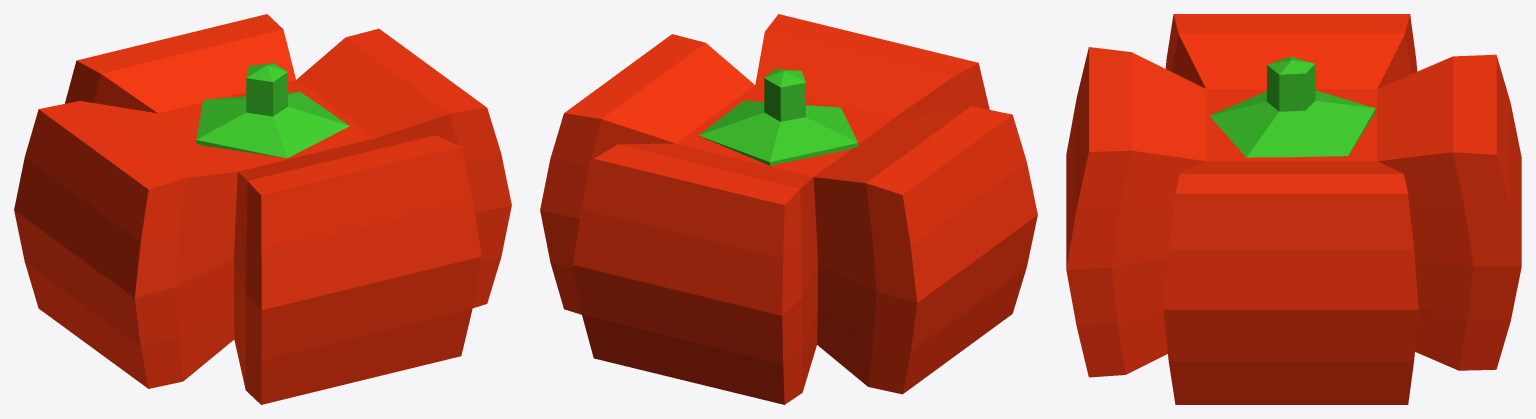
File: bellPeper.glb
3 renders of one model, left to right at view 1: azimuth 30°, elevation 25°; view 2: azimuth 150°, elevation 25°; view 3: azimuth 270°, elevation 25°, orthographic. The views are drawn at different scales.
Visible parts, largest first — view 1: Cube, Sphere; view 2: Cube, Sphere; view 3: Cube, Sphere.
Boxes of the visible parts, x1,y1,x2,y2 form: Cube: (14,14,511,404); Sphere: (196,63,349,158); Cube: (540,14,1037,404); Sphere: (698,69,858,165); Cube: (1066,14,1521,404); Sphere: (1209,56,1375,157).
Size of the model in its own units: 4.21 by 2.62 by 4.08.
